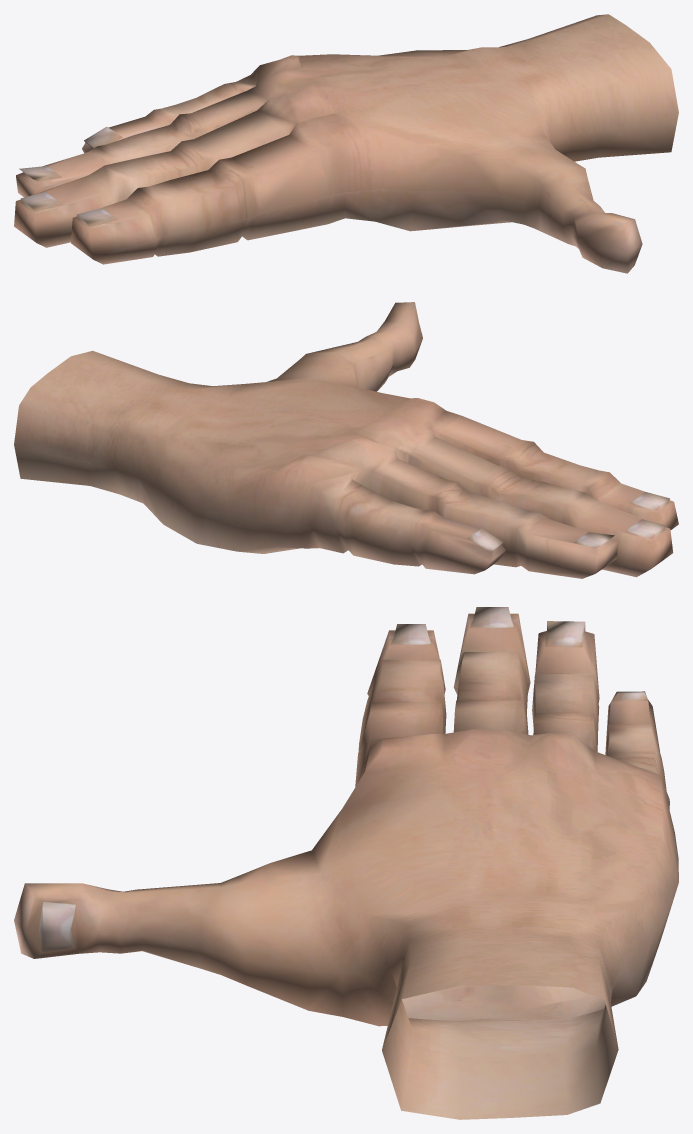
The model's file is right_handShape.obj.
3 renders of one model, top to bottom at view 1: azimuth 30°, elevation 25°; view 2: azimuth 150°, elevation 25°; view 3: azimuth 270°, elevation 25°, orthographic. The views are drawn at different scales.
Parts seen in each view (by area): view 1: right_hand CharacterRoot; view 2: right_hand CharacterRoot; view 3: right_hand CharacterRoot.
Part boxes in pixels (x1,y1,x2,y2): right_hand CharacterRoot: [14, 14, 678, 273]; right_hand CharacterRoot: [14, 302, 678, 578]; right_hand CharacterRoot: [14, 607, 678, 1119].
Bounding box in the file's own units: 23.31 × 4.52 × 16.17.
Materials: 1 (1 with a texture image).
